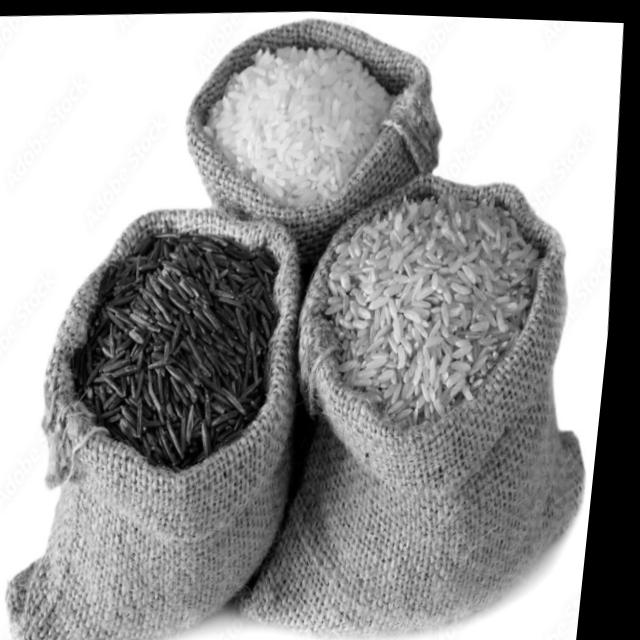sack: (223, 155, 628, 640), (0, 194, 334, 640), (168, 6, 462, 278)
